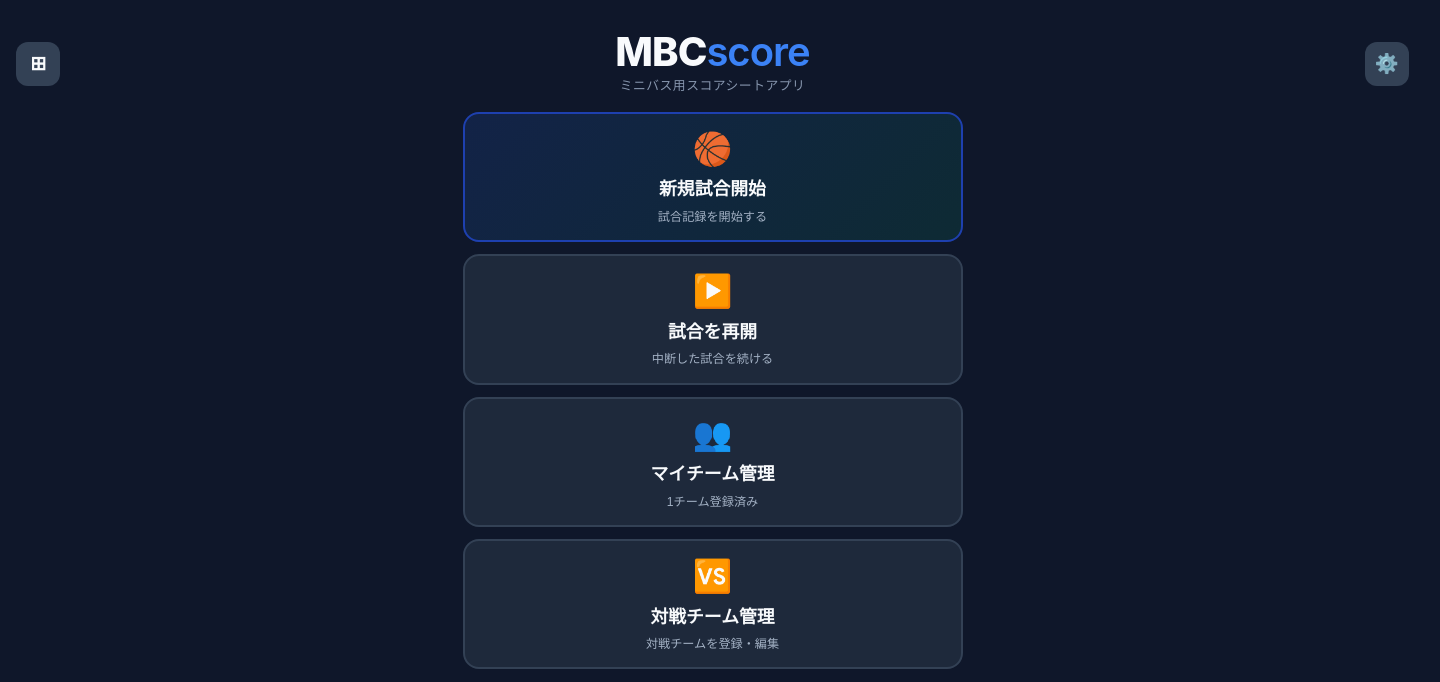
Test: 試合終了まわりの世代 › 試合終了の画面が出た時点では periodic（まだ履歴に保存していない）
Click the text "試合を再開" at x=713, y=330, box [668, 317, 757, 343]
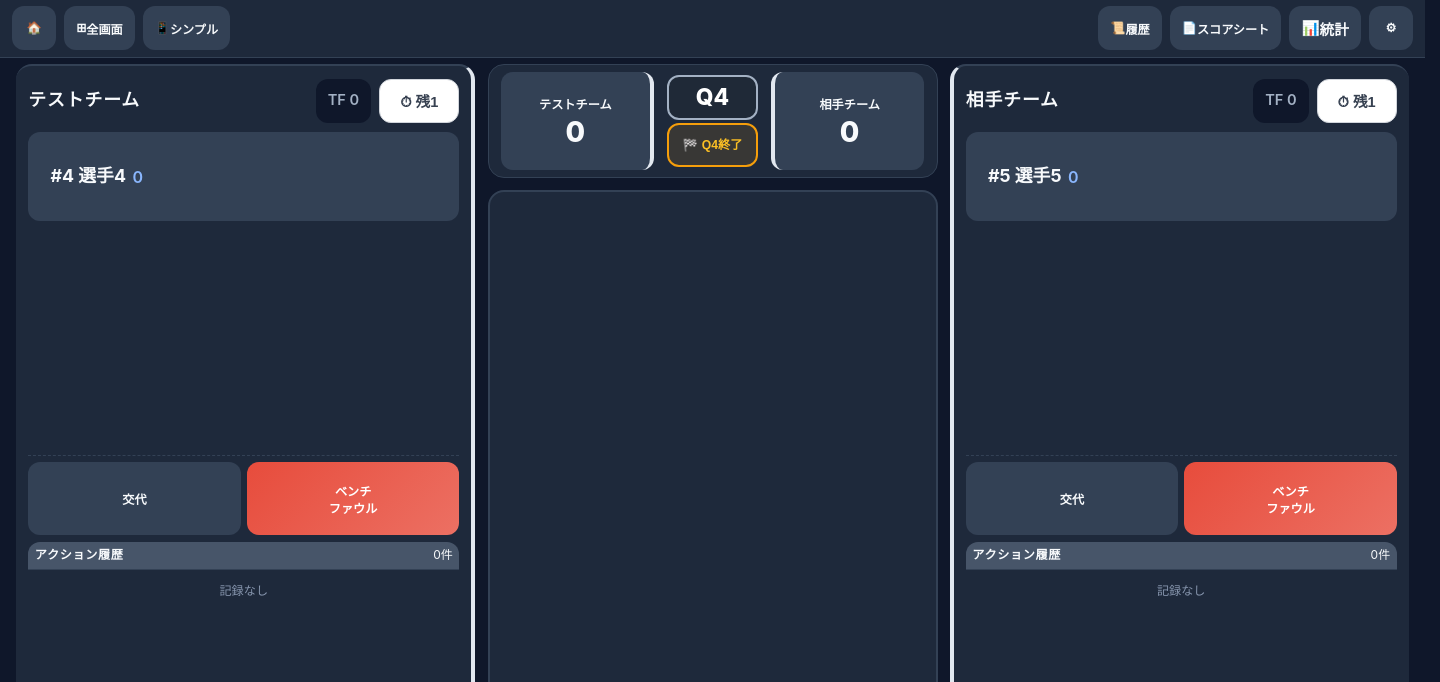
Click the text "Q4終了" at x=722, y=145, box [702, 138, 742, 152]
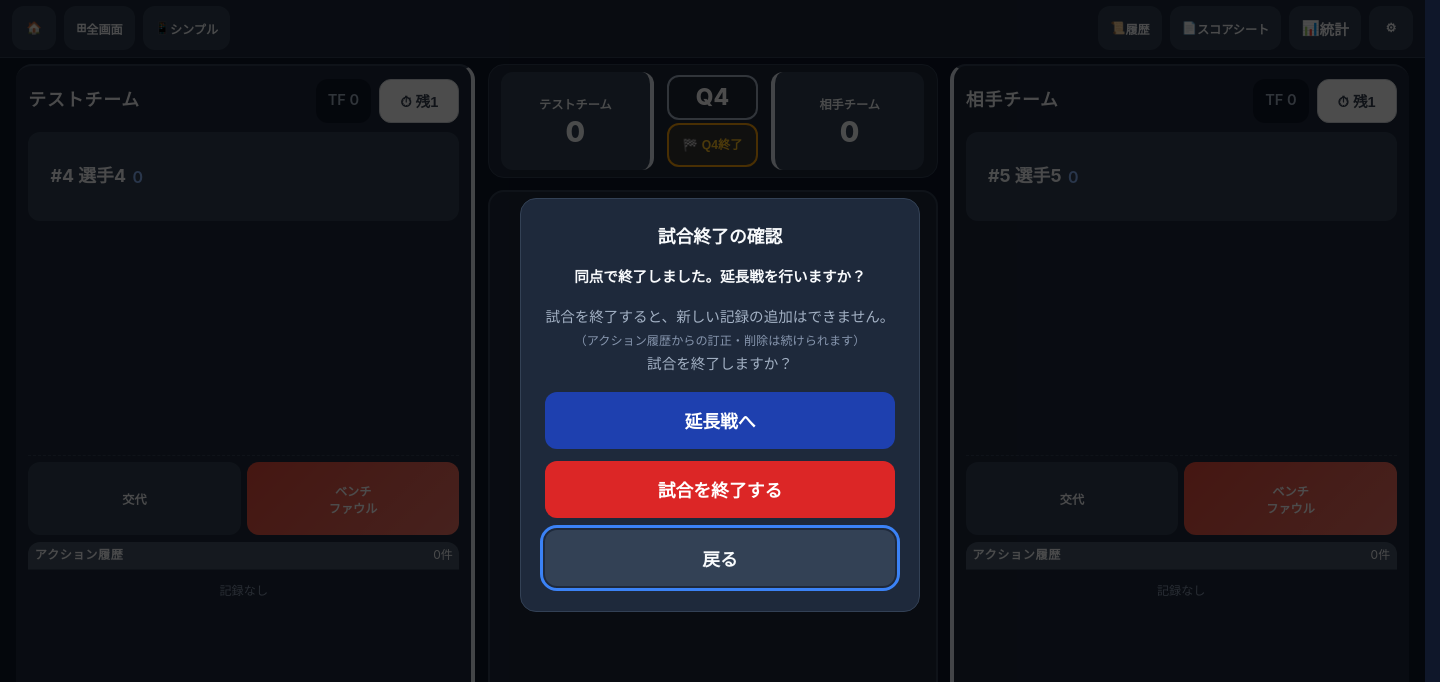
Click the button "試合を終了する" at x=720, y=489, box [545, 461, 895, 518]
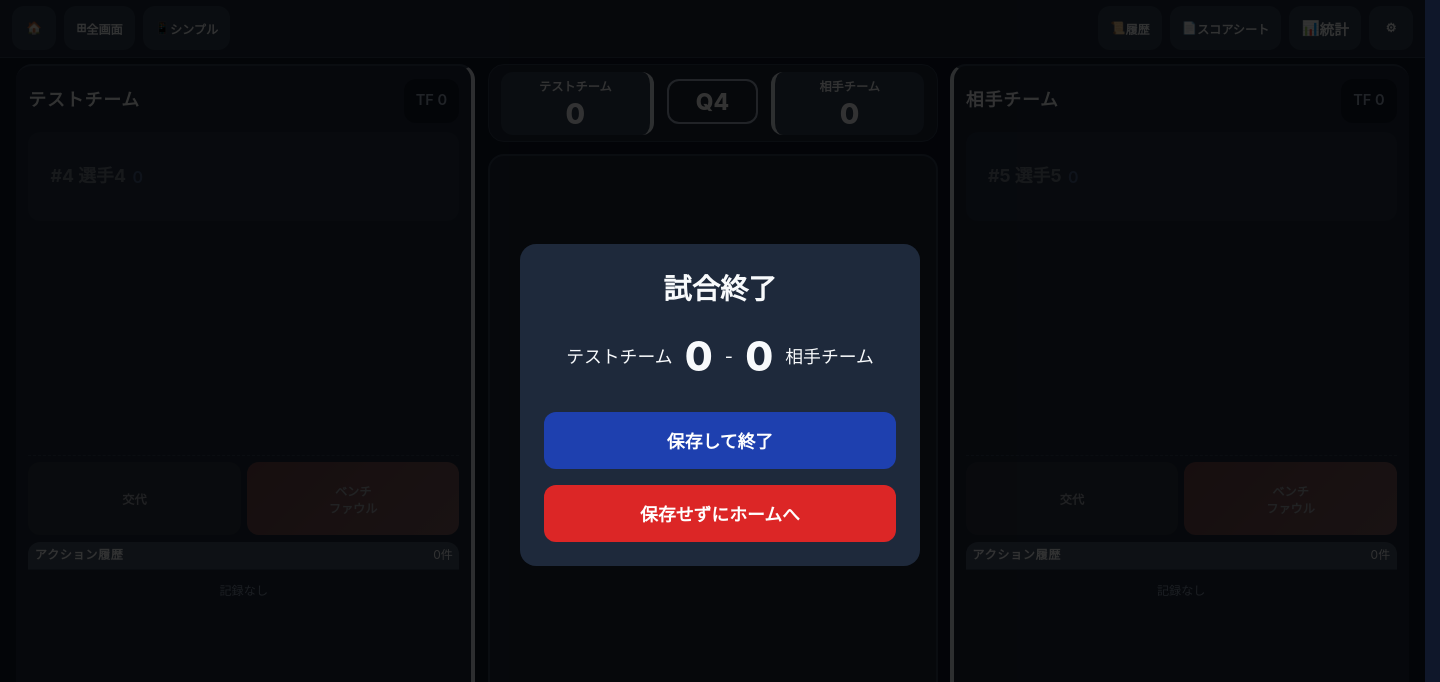
Expected: the button "保存して終了" is shown, [544, 412, 896, 469]
